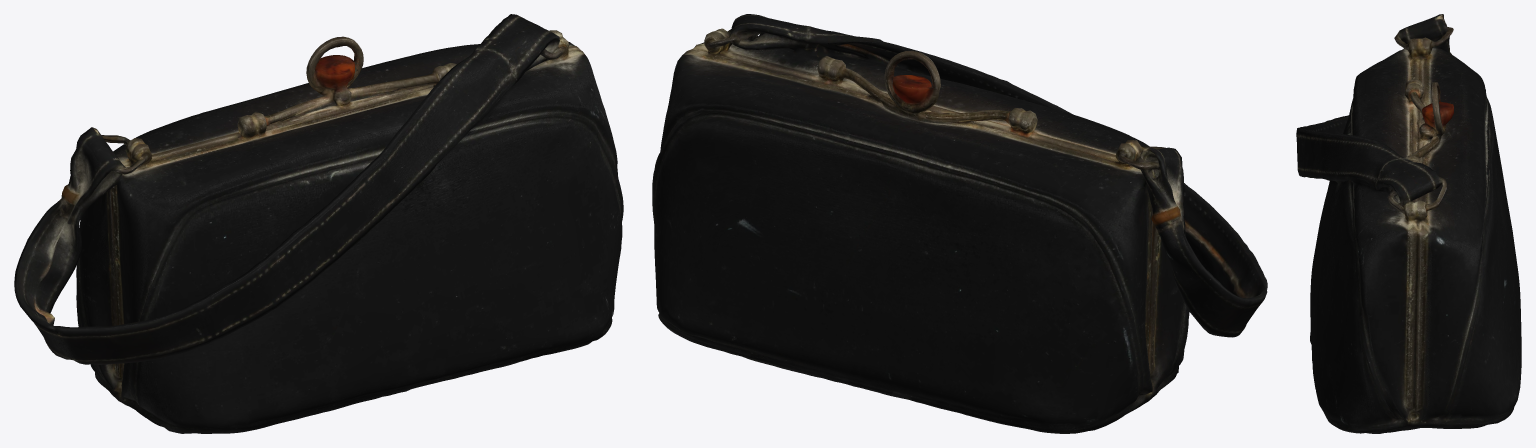
3 renders of one model, left to right at view 1: azimuth 30°, elevation 25°; view 2: azimuth 150°, elevation 25°; view 3: azimuth 270°, elevation 25°, orthographic. The views are drawn at different scales.
Visible parts, largest first — view 1: Object_2; view 2: Object_2; view 3: Object_2.
Boxes of the visible parts, box(x1,y1,x2,y2) form: Object_2: box(14, 14, 623, 433); Object_2: box(652, 14, 1267, 433); Object_2: box(1296, 14, 1521, 433).
Bounding box in the file's own units: 4.11 × 2.13 × 1.65.
Materials: 1 (1 with a texture image).
